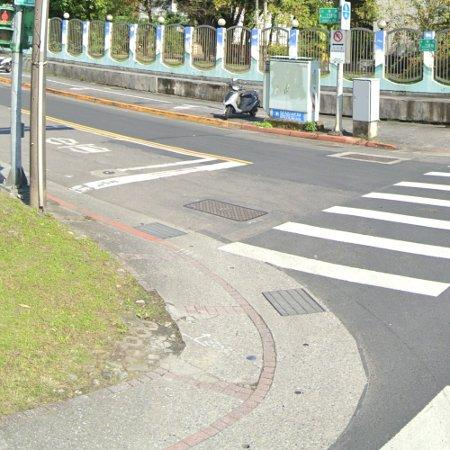crosswalks: (219, 171, 450, 300)
